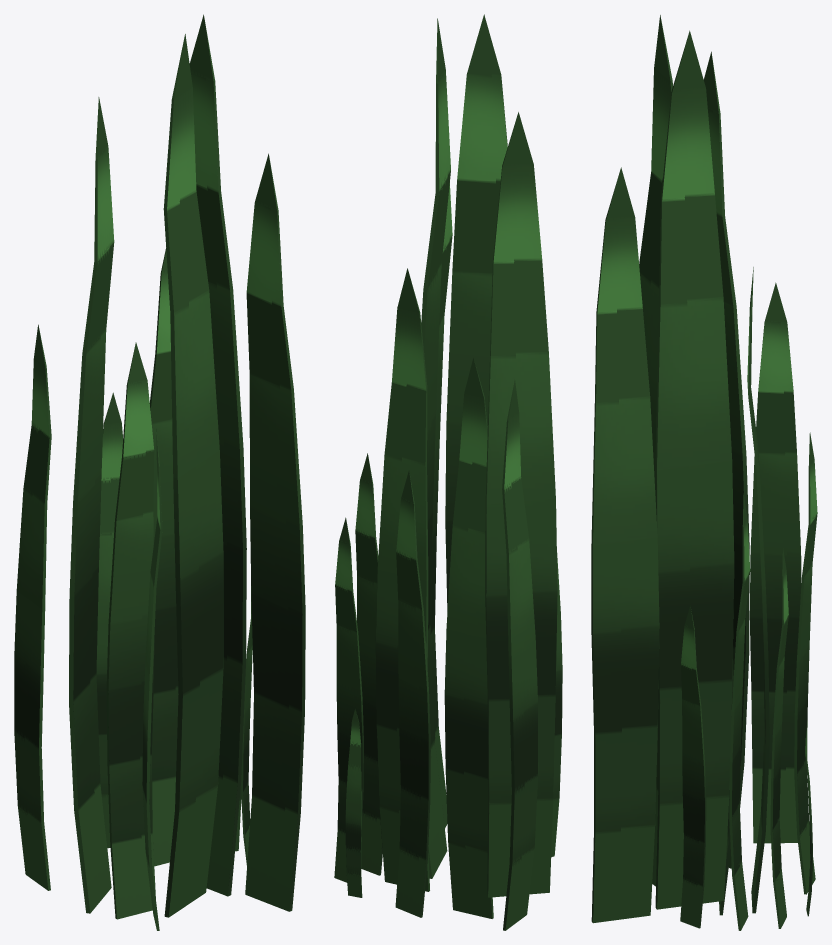
File: fixedgrass3.fbx
3 renders of one model, left to right at view 1: azimuth 30°, elevation 25°; view 2: azimuth 150°, elevation 25°; view 3: azimuth 270°, elevation 25°, orthographic. The views are drawn at different scales.
Parts seen in each view (by area): view 1: Cube.014; view 2: Cube.014; view 3: Cube.014.
Part boxes in pixels (bbox=[...]): Cube.014: bbox=[14, 14, 305, 930]; Cube.014: bbox=[334, 14, 562, 930]; Cube.014: bbox=[591, 15, 817, 930].
Size of the model in its own units: 45.4 by 199 by 45.29.
